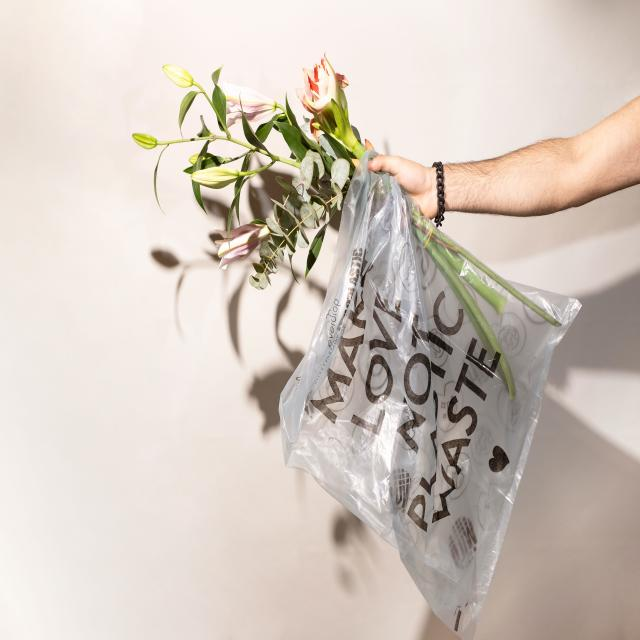Plastic: (253, 151, 596, 631)
